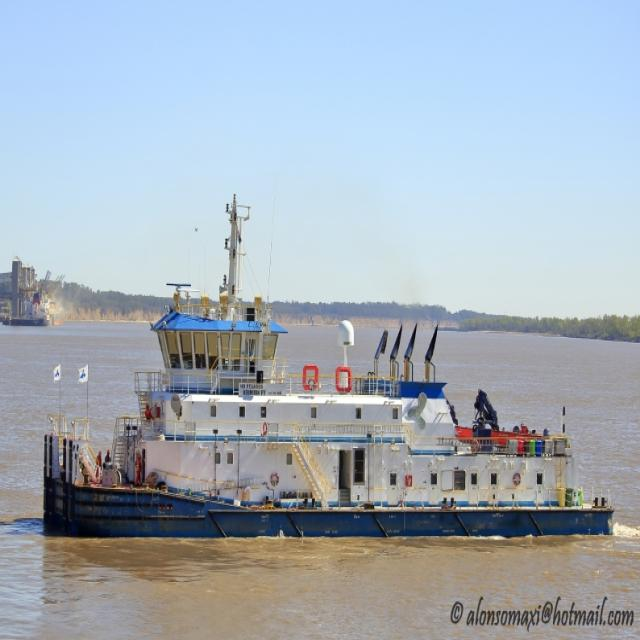tugboat: (37, 191, 618, 555)
